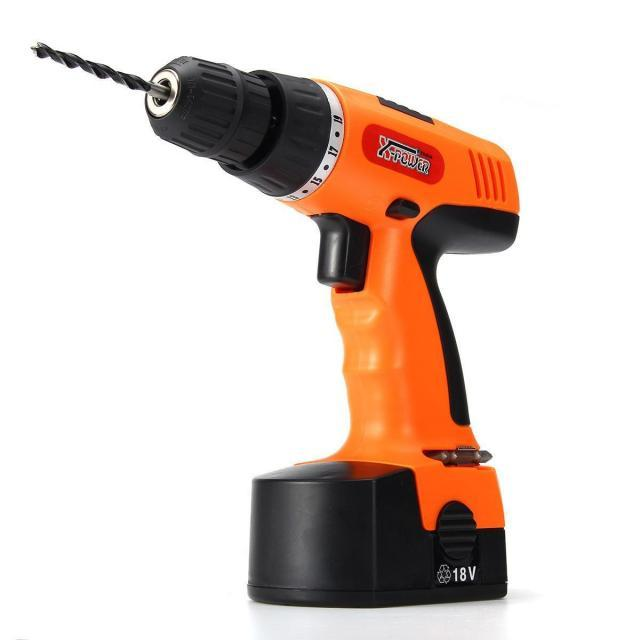drill: (30, 41, 521, 608)
